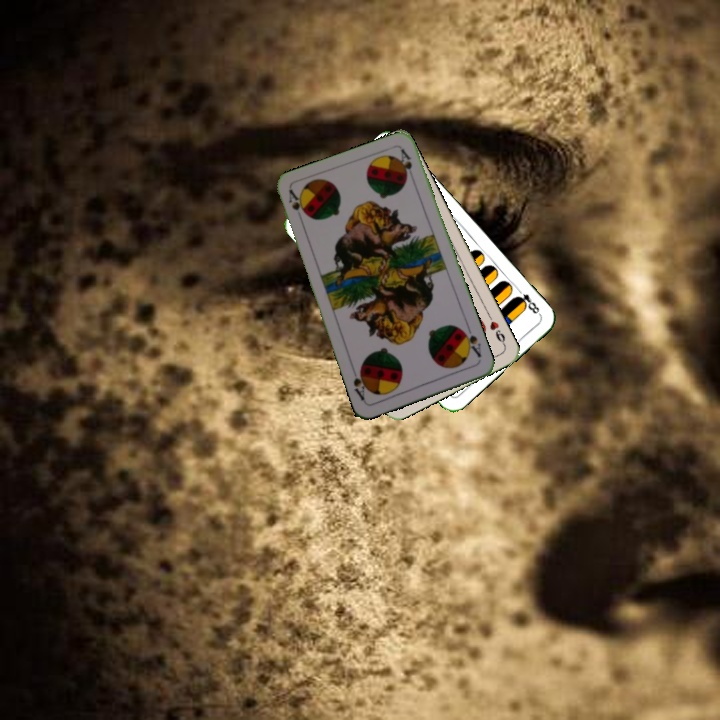E8: (511, 284, 543, 318)
H9: (484, 311, 508, 349)
SA: (457, 323, 484, 360), (284, 186, 308, 226)
